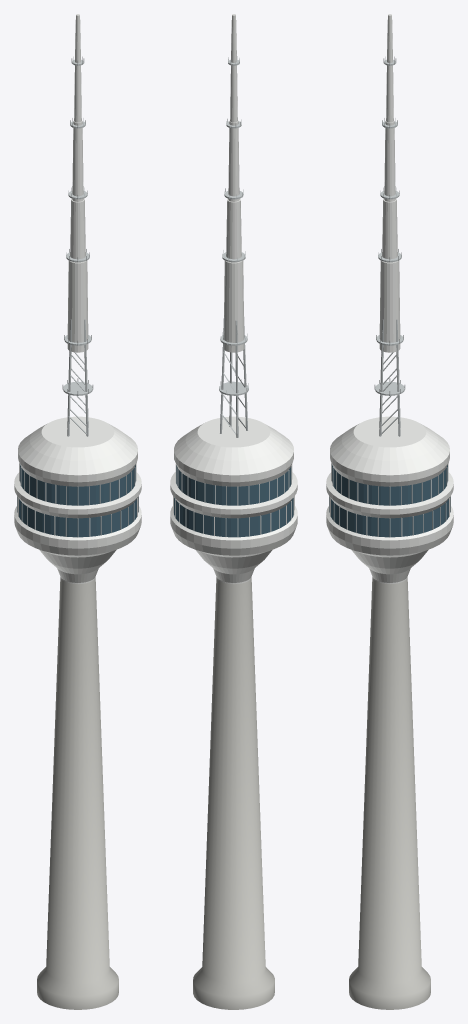
The model's file is nseoul.glb.
The picture shows the model from 3 angles, left to right: view 1: azimuth 90°, elevation 25°; view 2: azimuth 150°, elevation 25°; view 3: azimuth 270°, elevation 25°; orthographic projection.
Visible parts, largest first — view 1: nseoul_root_NSeoul_Warm_Concrete, nseoul_root_NSeoul_White_Fascia, nseoul_root_NSeoul_Observation_Glass, nseoul_root_NSeoul_Transmission_Silver; view 2: nseoul_root_NSeoul_Warm_Concrete, nseoul_root_NSeoul_White_Fascia, nseoul_root_NSeoul_Observation_Glass, nseoul_root_NSeoul_Transmission_Silver; view 3: nseoul_root_NSeoul_Warm_Concrete, nseoul_root_NSeoul_White_Fascia, nseoul_root_NSeoul_Observation_Glass, nseoul_root_NSeoul_Transmission_Silver.
Part boxes in pixels (x1,y1,x2,y2): nseoul_root_NSeoul_Warm_Concrete: (37, 578, 118, 1009); nseoul_root_NSeoul_White_Fascia: (14, 14, 141, 584); nseoul_root_NSeoul_Observation_Glass: (17, 465, 138, 537); nseoul_root_NSeoul_Transmission_Silver: (62, 56, 93, 436); nseoul_root_NSeoul_Warm_Concrete: (193, 578, 274, 1009); nseoul_root_NSeoul_White_Fascia: (170, 14, 297, 584); nseoul_root_NSeoul_Observation_Glass: (174, 465, 293, 537); nseoul_root_NSeoul_Transmission_Silver: (219, 56, 248, 437); nseoul_root_NSeoul_Warm_Concrete: (349, 578, 430, 1009); nseoul_root_NSeoul_White_Fascia: (326, 14, 453, 584); nseoul_root_NSeoul_Observation_Glass: (329, 465, 450, 537); nseoul_root_NSeoul_Transmission_Silver: (374, 56, 405, 436).
Bounding box in the file's own units: 28 × 237 × 28.
